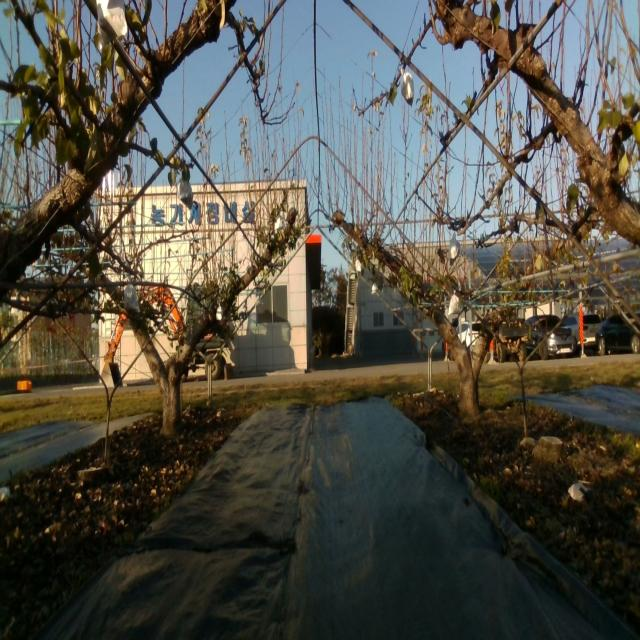pearbags: (95, 0, 127, 36), (400, 67, 415, 106), (176, 176, 193, 210), (125, 283, 140, 313), (449, 231, 461, 265), (448, 291, 462, 317)
